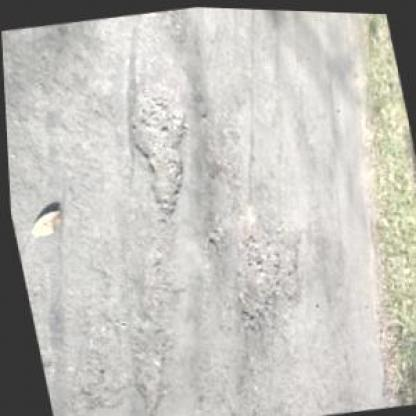pothole: (119, 75, 205, 219), (219, 204, 293, 341), (265, 209, 313, 305), (198, 219, 226, 251)
